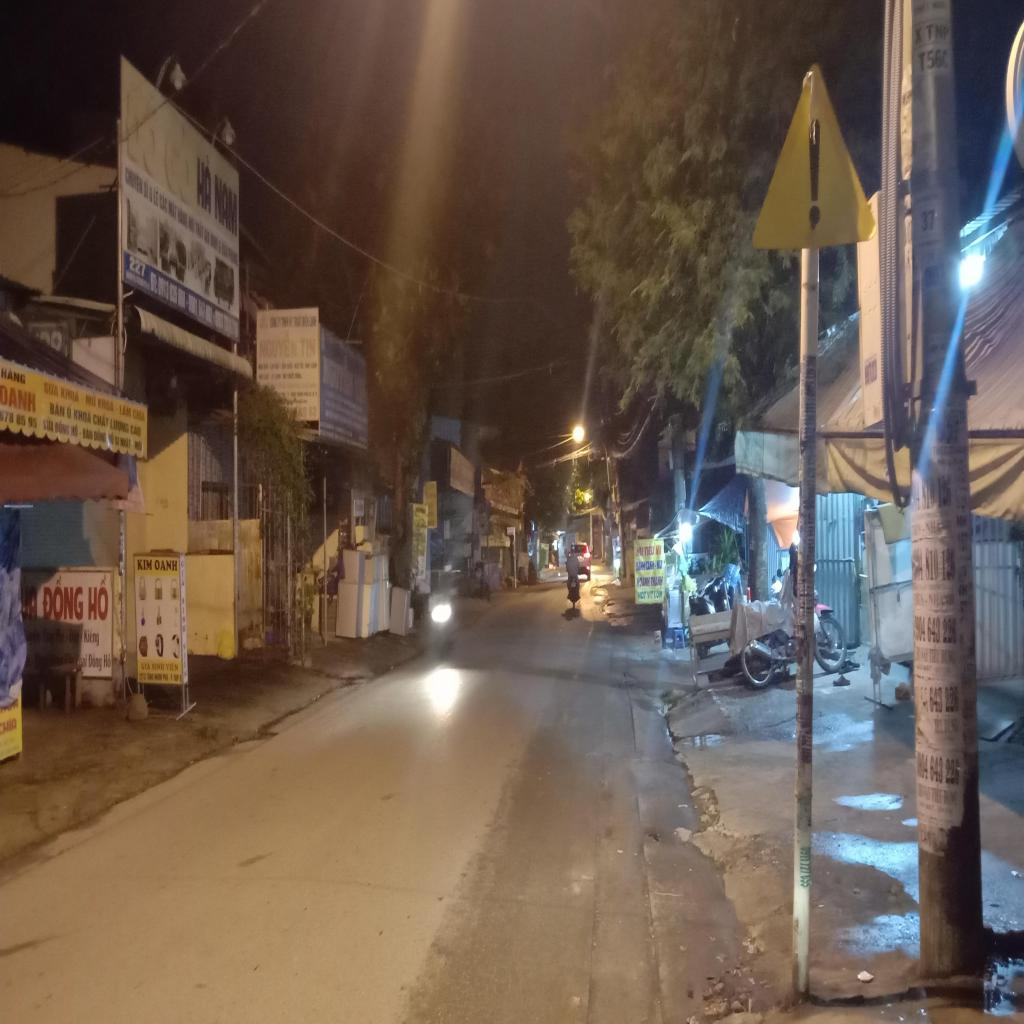nguy_hiem_khac: (750, 61, 880, 251)
